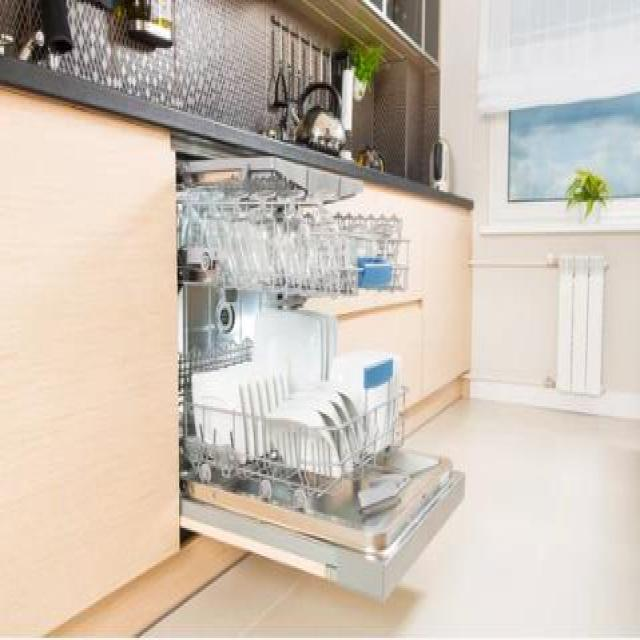dishwasher: (171, 150, 472, 608)
